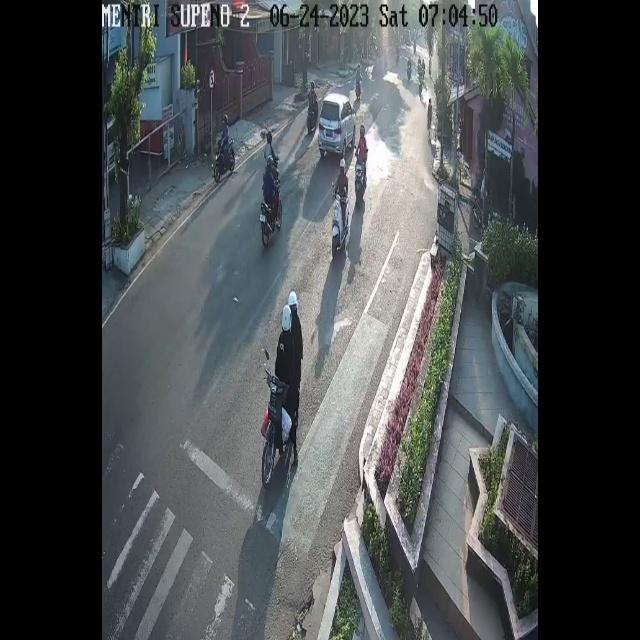bus: (262, 368, 286, 486), (258, 179, 283, 247), (213, 136, 235, 184), (332, 191, 349, 252), (473, 193, 493, 231), (355, 154, 367, 202), (306, 96, 319, 134), (355, 73, 362, 104), (418, 78, 424, 98)
motorcycle: (318, 93, 356, 158)
